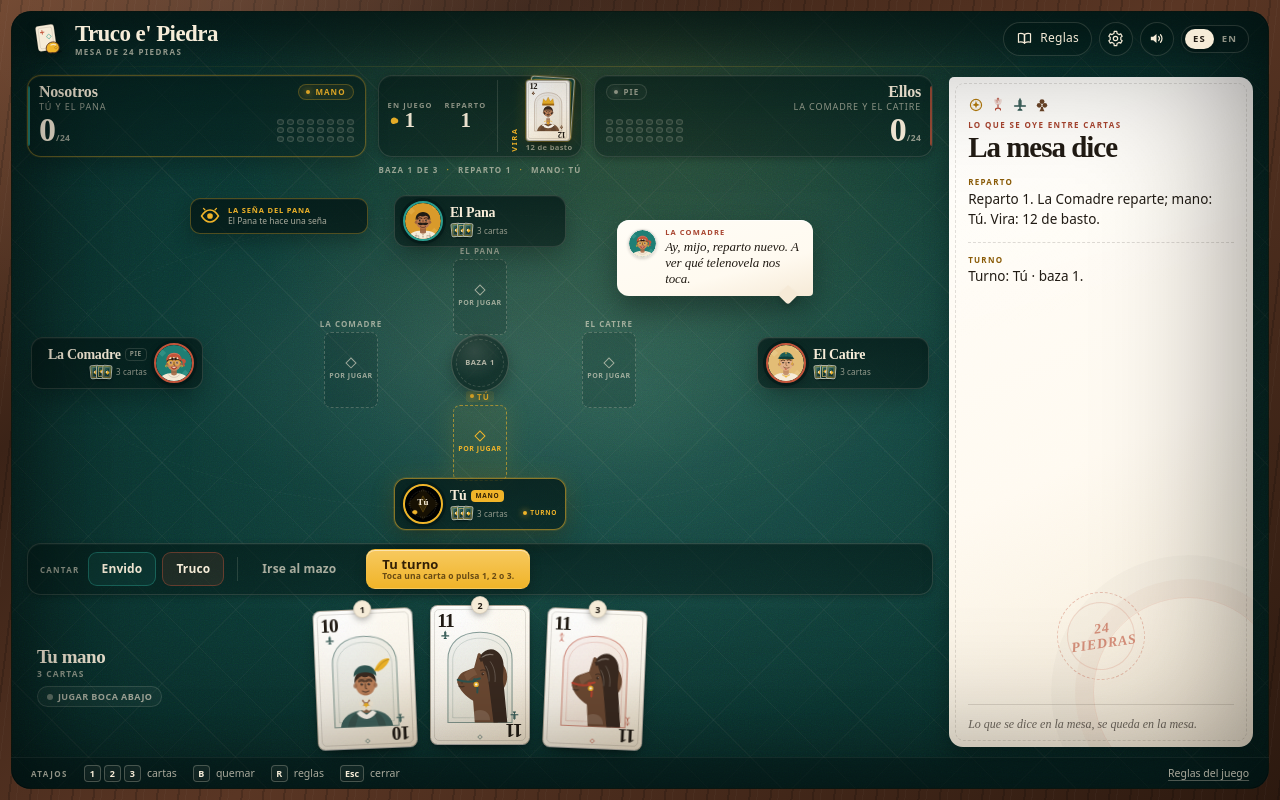
Scenario: the mesa shell › toggles the sound preference and remembers it
Click the button named "Silenciar sonido" at (1157,39), box [1140, 22, 1174, 56]
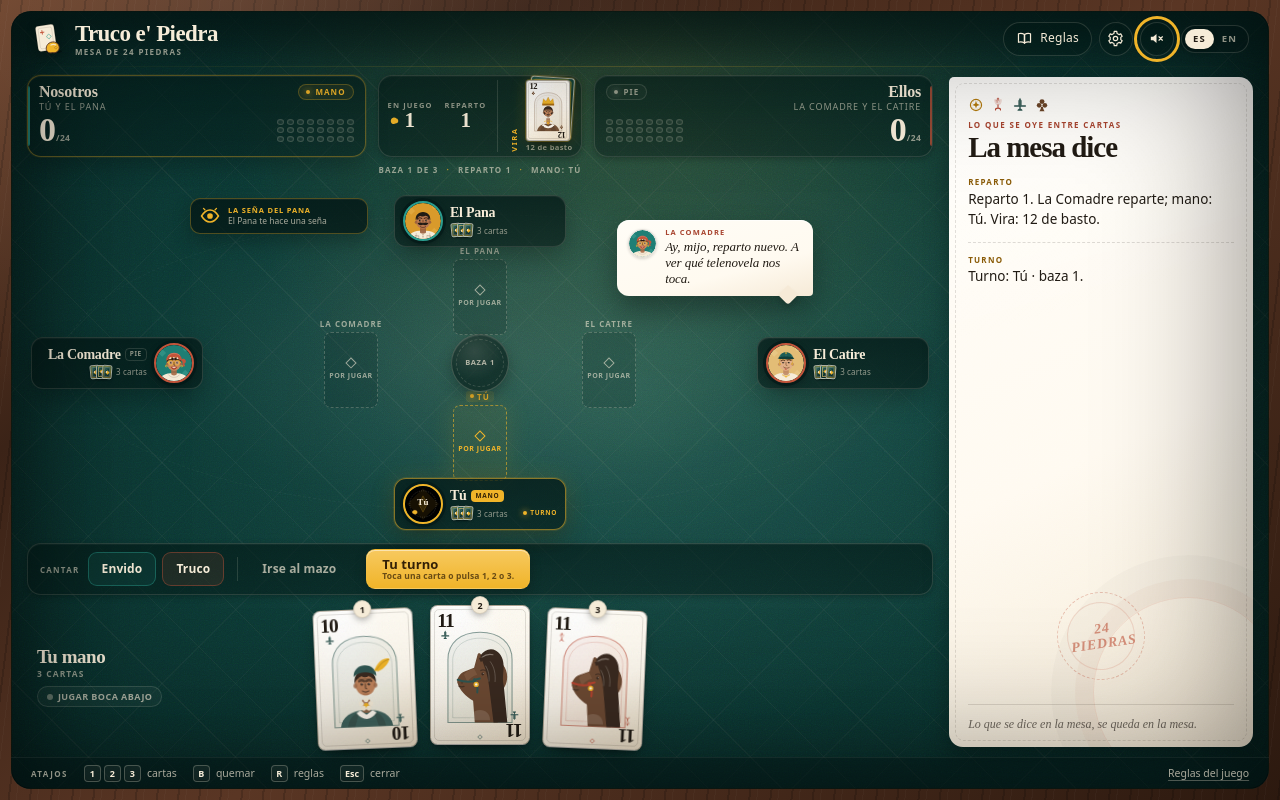
Expected: the button named "Activar sonido" is shown, [1140, 22, 1174, 56]
